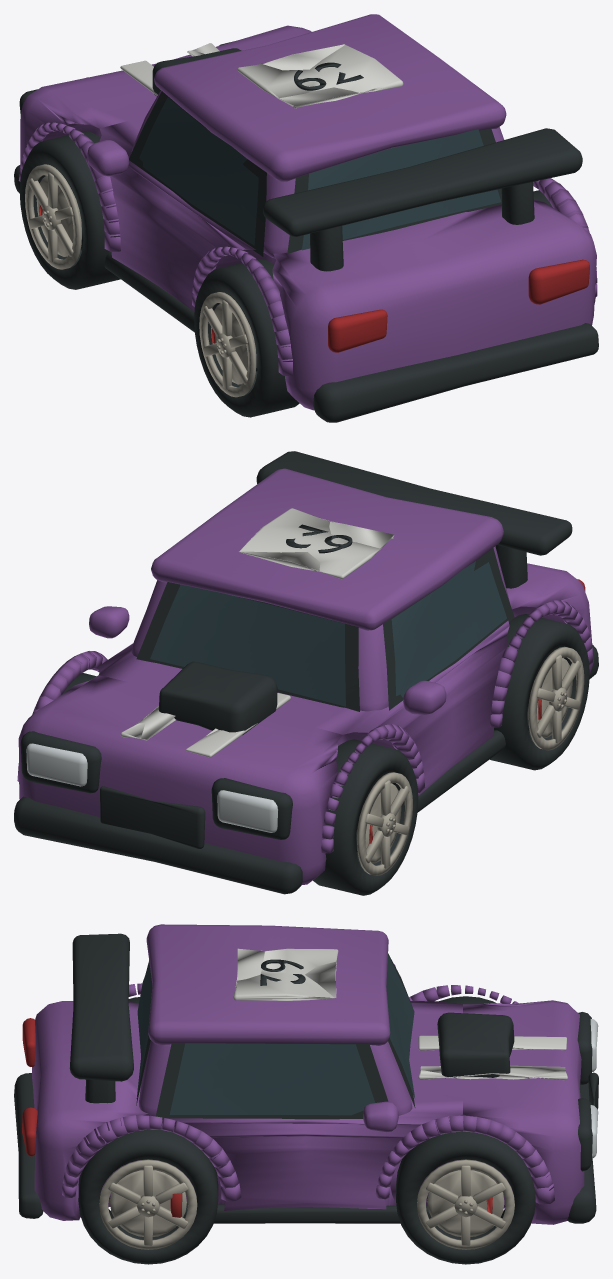
File: car_muscle.glb
3 views of the same model, one above another, from view 1: azimuth 30°, elevation 25°; view 2: azimuth 150°, elevation 25°; view 3: azimuth 270°, elevation 25° (orthographic). The views are drawn at different scales.
Visible parts, largest first — view 1: Body.006, WheelMesh.026, WheelMesh.024; view 2: Body.006, WheelMesh.024, WheelMesh.026; view 3: Body.006, WheelMesh.027, WheelMesh.025.
Boxes of the visible parts, x1,y1,x2,y2 form: Body.006: (14, 14, 598, 422); WheelMesh.026: (194, 258, 299, 417); WheelMesh.024: (19, 131, 120, 289); Body.006: (14, 451, 598, 894); WheelMesh.024: (313, 739, 418, 895); WheelMesh.026: (490, 614, 589, 770); Body.006: (14, 924, 598, 1224); WheelMesh.027: (78, 1129, 218, 1264); WheelMesh.025: (396, 1131, 535, 1264).
Size of the model in its own units: 2.64 by 1.77 by 4.18.
